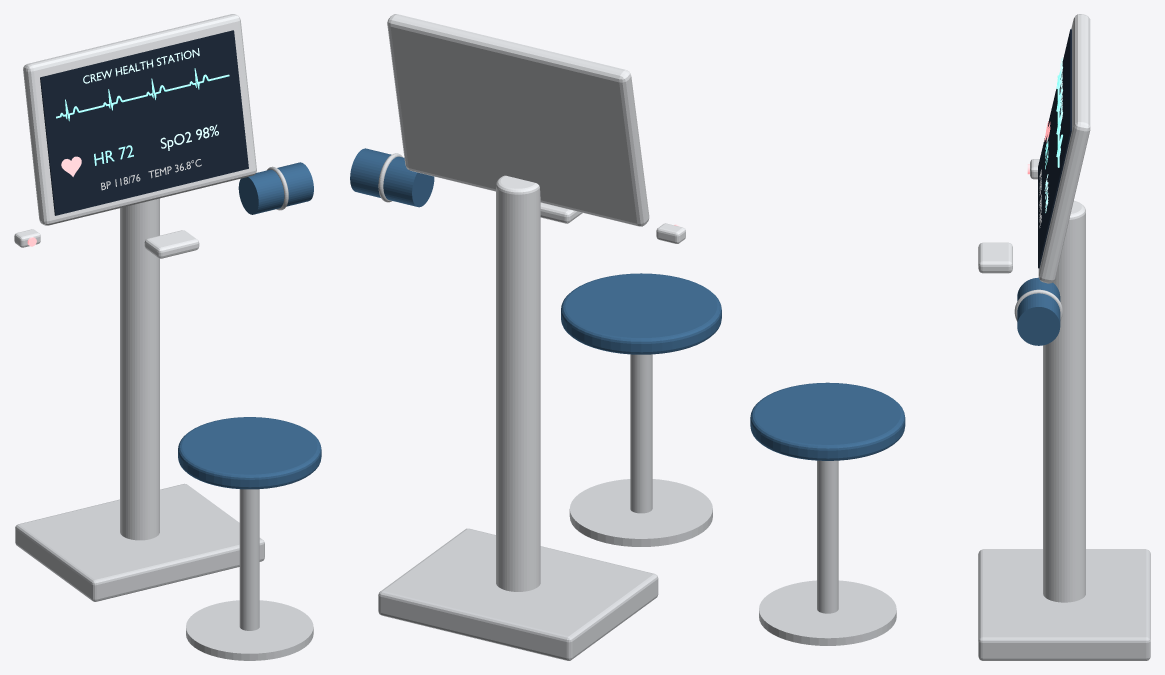
Rendered from health_station.glb.
The picture shows the model from 3 angles, left to right: view 1: azimuth 30°, elevation 25°; view 2: azimuth 150°, elevation 25°; view 3: azimuth 270°, elevation 25°; orthographic projection. The views are drawn at different scales.
Parts seen in each view (by area): view 1: Screen_Panel, Base_Plate, Column, Screen_Bezel, Stool_Seat, Stool_Foot, Stool_Post, BP_Cuff, Thermometer_Tray, Live_ECG, Title; view 2: Screen_Bezel, Base_Plate, Column, Stool_Seat, Stool_Foot, Stool_Post, BP_Cuff, Thermometer_Tray; view 3: Base_Plate, Column, Stool_Seat, Stool_Foot, Screen_Bezel, Screen_Panel, Stool_Post, BP_Cuff, Thermometer_Tray.
Part boxes in pixels (box(x1,y1,x2,y2)): Screen_Panel: box(40, 30, 248, 215); Base_Plate: box(15, 483, 264, 601); Column: box(120, 198, 159, 540); Screen_Bezel: box(23, 14, 256, 225); Stool_Seat: box(178, 417, 321, 489); Stool_Foot: box(186, 600, 313, 660); Stool_Post: box(239, 489, 259, 630); BP_Cuff: box(238, 162, 313, 214); Thermometer_Tray: box(144, 230, 199, 258); Live_ECG: box(56, 68, 229, 121); Title: box(83, 48, 199, 83); Screen_Bezel: box(387, 14, 649, 226); Base_Plate: box(378, 528, 658, 660); Column: box(496, 175, 540, 591); Stool_Seat: box(561, 273, 721, 354); Stool_Foot: box(569, 479, 712, 546); Stool_Post: box(630, 354, 652, 513); BP_Cuff: box(350, 148, 434, 207); Thermometer_Tray: box(540, 202, 582, 223); Base_Plate: box(978, 549, 1150, 660); Column: box(1043, 200, 1085, 602); Stool_Seat: box(750, 382, 905, 460); Stool_Foot: box(759, 580, 896, 645); Screen_Bezel: box(1038, 14, 1090, 283); Screen_Panel: box(1038, 29, 1071, 268); Stool_Post: box(817, 460, 838, 613); BP_Cuff: box(1017, 277, 1060, 345); Thermometer_Tray: box(978, 242, 1012, 273).
Size of the model in its own units: 0.83 by 1.41 by 0.93.
